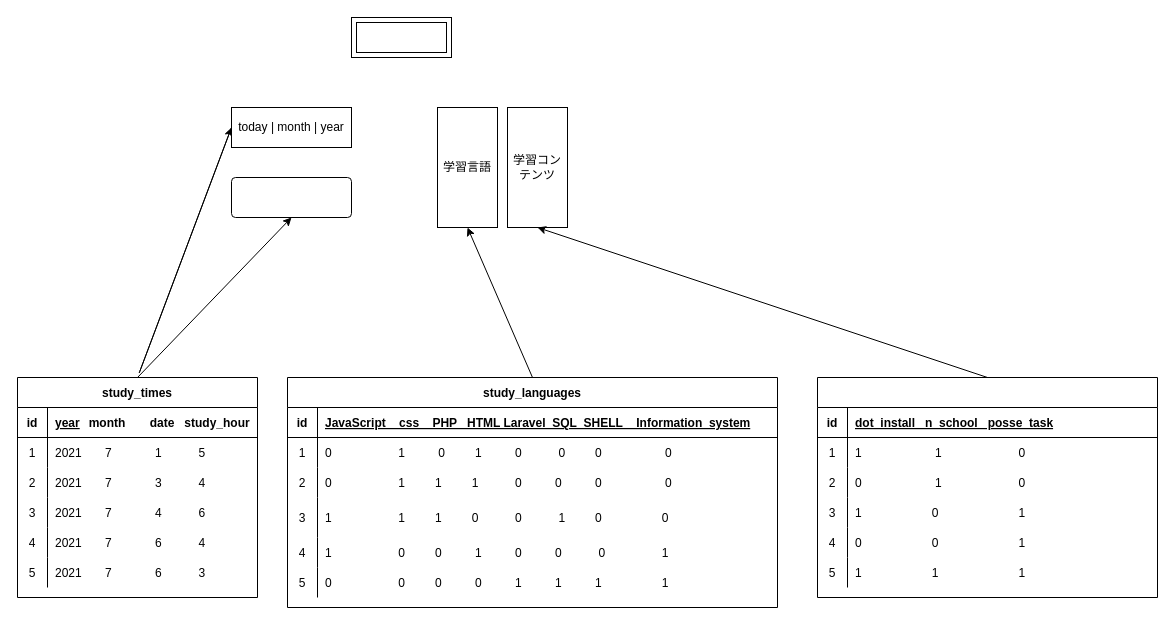
Image size: 1175x625. Some labels were removed from this diagram. The box of each missing label's shape, as (x1, y1, x2, y2) in pixels:
study_contents: (816, 376, 1158, 598)
webapp: (350, 16, 452, 58)
日毎の学習時間: (230, 176, 352, 218)
